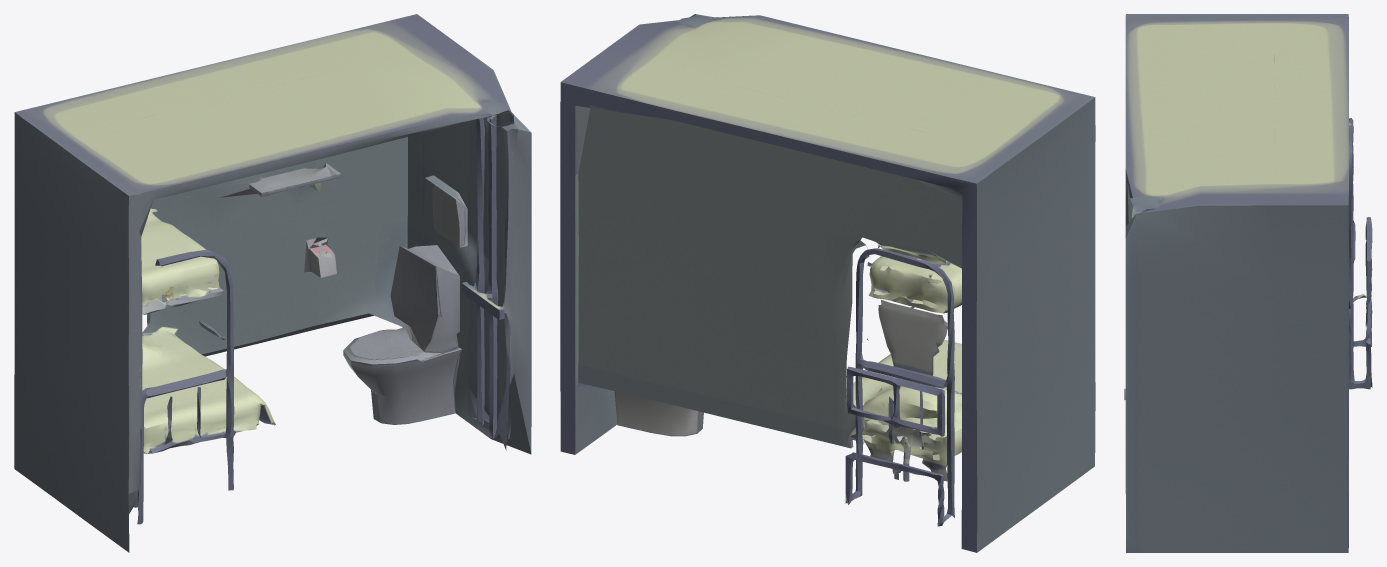
Rendered from cell_interior_kit.glb.
The picture shows the model from 3 angles, left to right: view 1: azimuth 30°, elevation 25°; view 2: azimuth 150°, elevation 25°; view 3: azimuth 270°, elevation 25°; orthographic projection. The views are drawn at different scales.
Visible parts, largest first — view 1: Mesh_0; view 2: Mesh_0; view 3: Mesh_0.
Part boxes in pixels (x1,y1,x2,y2): Mesh_0: (14, 14, 531, 552); Mesh_0: (560, 14, 1095, 552); Mesh_0: (1124, 14, 1372, 552).
Bounding box in the file's own units: 1.9 × 1.61 × 1.04.
1 material, 1 textured.
